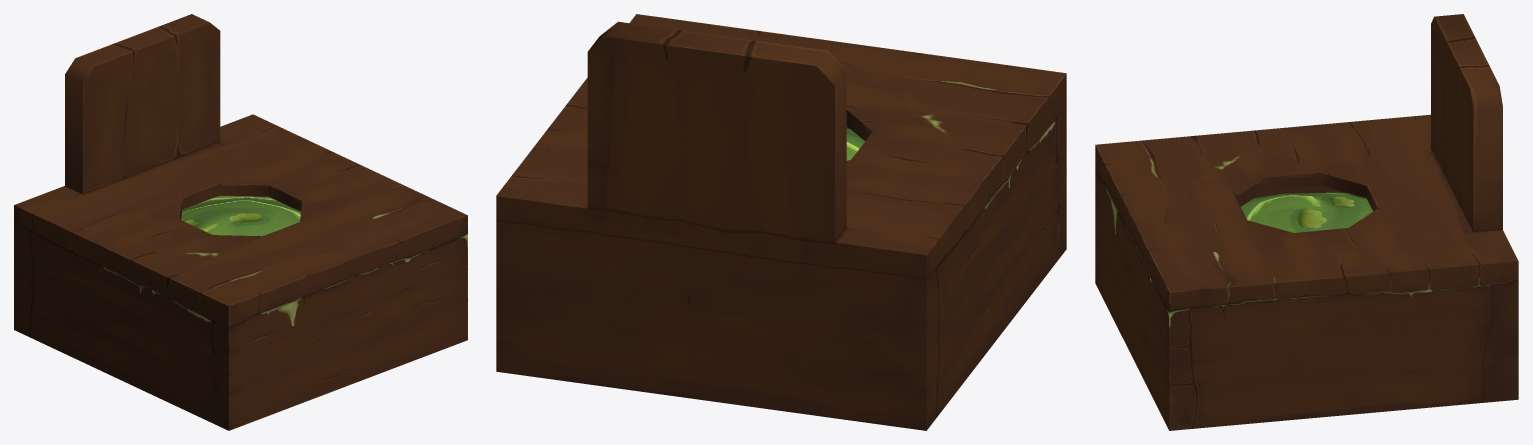
Rendered from bathroom_toilette_V01.glb.
The picture shows the model from 3 angles, left to right: view 1: azimuth 30°, elevation 25°; view 2: azimuth 150°, elevation 25°; view 3: azimuth 270°, elevation 25°; orthographic projection. The views are drawn at different scales.
Parts seen in each view (by area): view 1: Toilette01, InhaltToilette1; view 2: Toilette01; view 3: Toilette01, InhaltToilette1.
Part boxes in pixels (left/top/right/bottom): Toilette01: left=14, top=14, right=467, bottom=430; InhaltToilette1: left=181, top=195, right=300, bottom=236; Toilette01: left=496, top=14, right=1066, bottom=430; Toilette01: left=1095, top=14, right=1518, bottom=430; InhaltToilette1: left=1240, top=192, right=1372, bottom=232.
Bounding box in the file's own units: 0.8298 × 0.597 × 0.8298.
2 materials, 2 textured.
